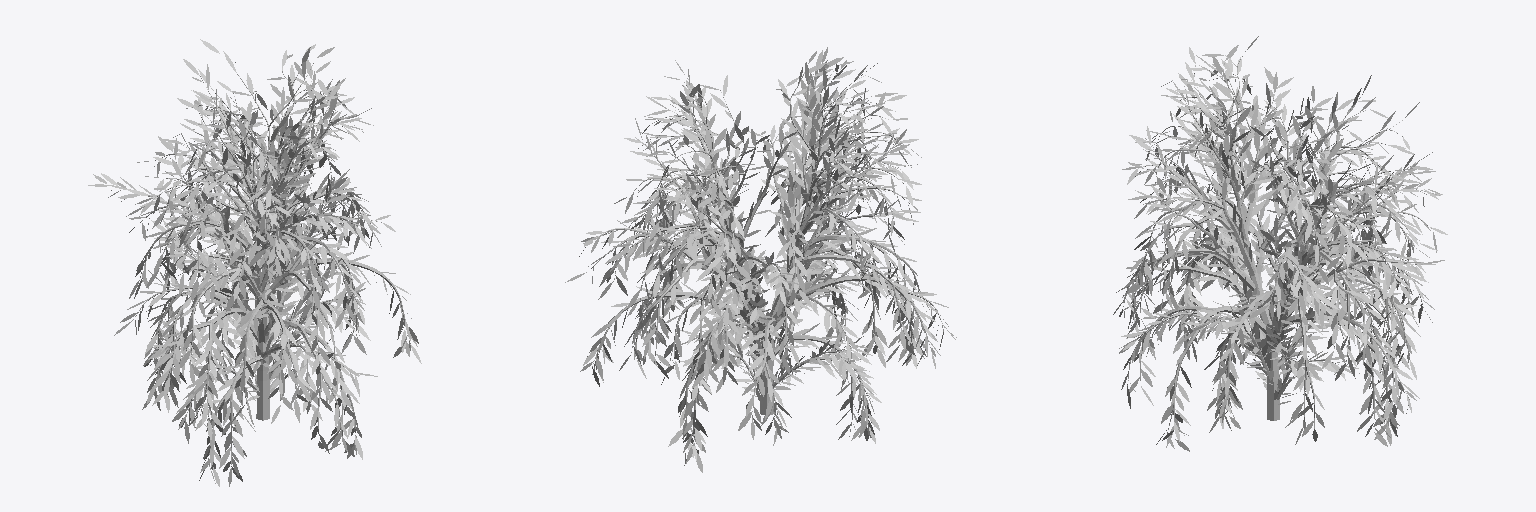
File: tree_test.obj
3 renders of one model, left to right at view 1: azimuth 30°, elevation 25°; view 2: azimuth 150°, elevation 25°; view 3: azimuth 270°, elevation 25°, orthographic.
Parts seen in each view (by area): view 1: leaves, tree; view 2: leaves, tree; view 3: leaves, tree.
Boxes of the visible parts, box(x1,y1,x2,y2) form: leaves: box(88, 39, 421, 486); tree: box(130, 54, 409, 464); leaves: box(565, 47, 956, 472); tree: box(591, 69, 944, 437); leaves: box(1113, 36, 1447, 451); tree: box(1123, 51, 1431, 433).
Bounding box in the file's own units: 1.06 × 1.35 × 1.06.